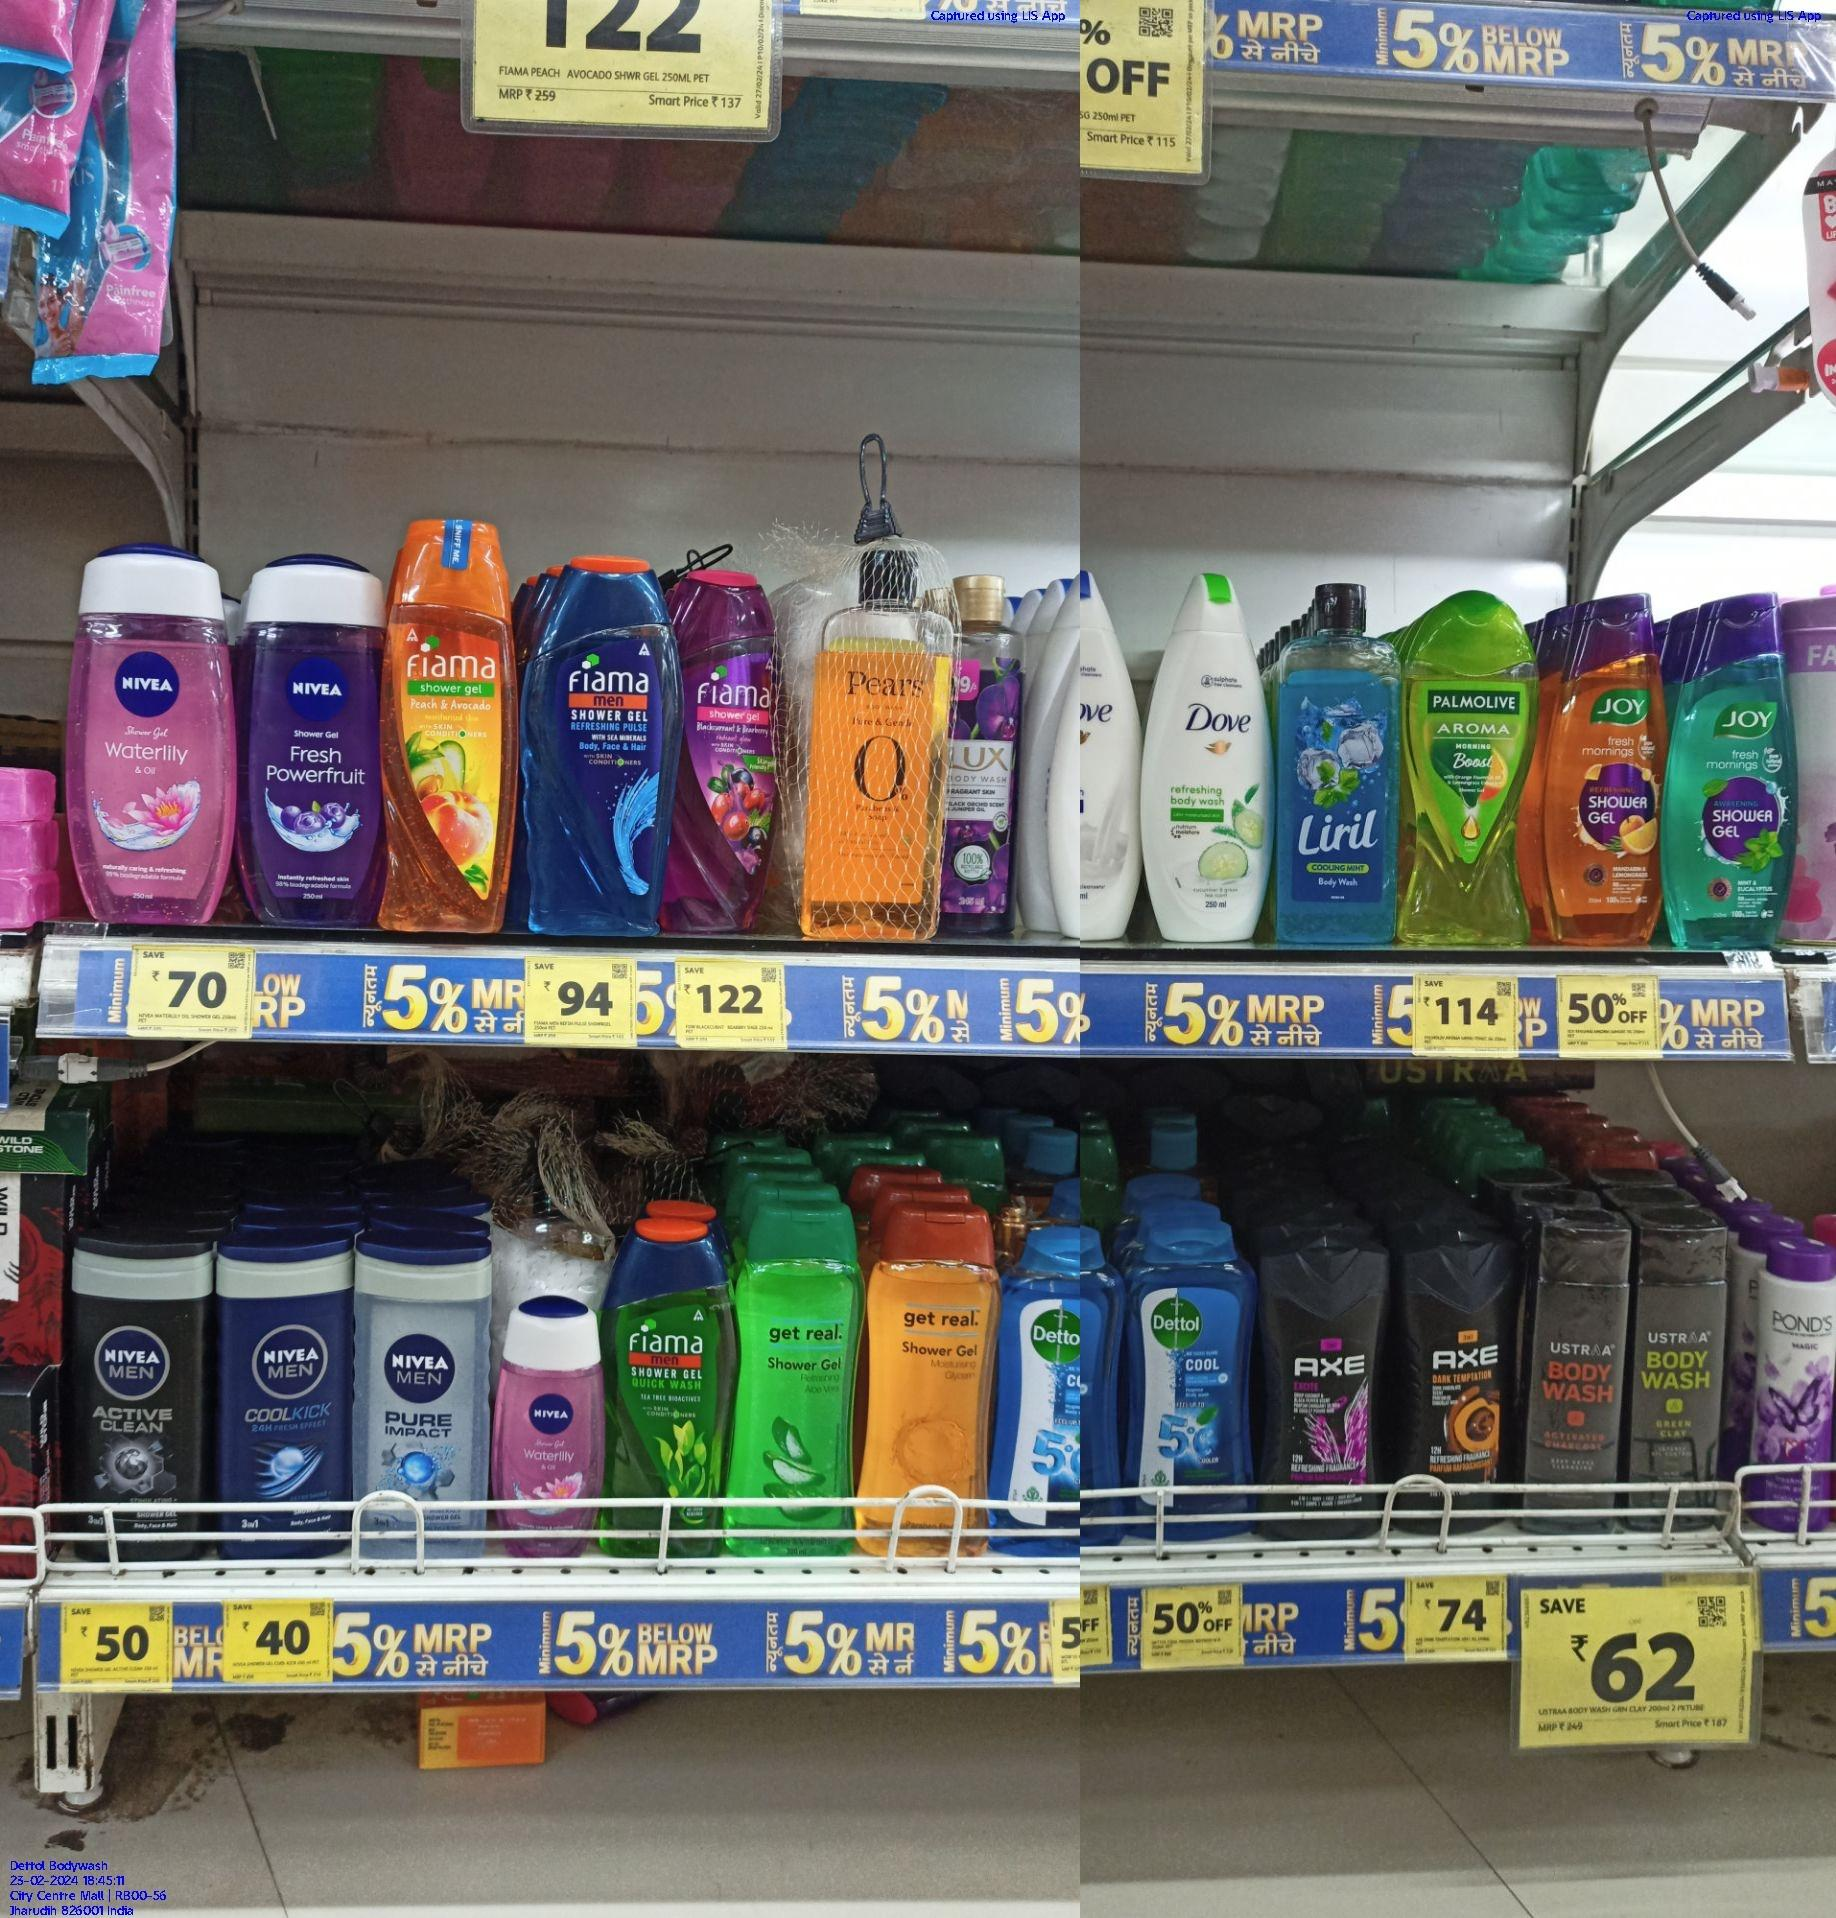Dettol_Bodywash_Cool: (1120, 1221, 1255, 1552)
Dove_Refreshing_Body_Wash_250ML: (1142, 577, 1271, 942)
Fiama_Shower_Gel_Peach_and_Avocado_250ML: (385, 517, 512, 937)
Get_Real_Shower_Gel_Moisturising_Glycerin_300ML: (858, 1211, 1002, 1558)
Joy_Shower_Gel_Mandarin_and_Lemongrass_250ML: (1548, 598, 1665, 947)
Joy_Shower_Gel_Mint_and_Eucalyptus_250ML: (1666, 598, 1798, 952)
Liril_Cooling_Mint_Body_Wash_250ML: (1278, 586, 1404, 945)
Lux_Black_Orchid_Scent_and_Juniper_Oil_Body_Wash_245ML: (940, 575, 1024, 942)
Nivea_Shower_Gel_Fresh_Powerfruit_250ML: (236, 557, 380, 923)
Nivea_Shower_Gel_Waterlily_and_Oil_250ML: (70, 550, 229, 933), (495, 1308, 601, 1565)
Palmolive_Aroma_Morning_Tonic_Shower_Gel_250ML: (1403, 593, 1541, 945)
